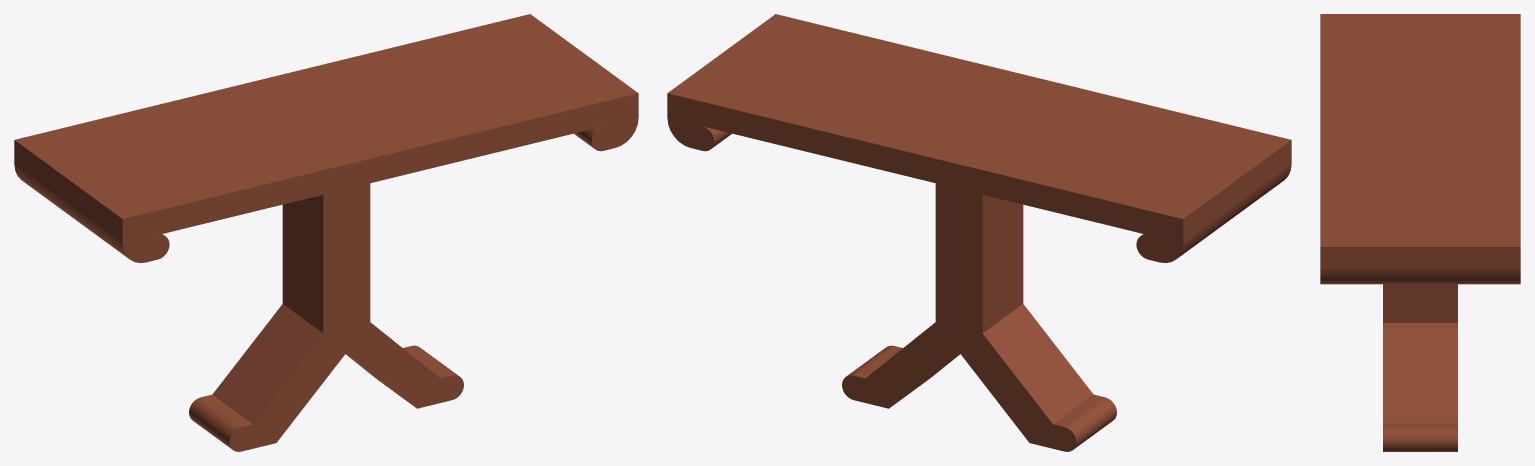
Rendered from table.glb.
The picture shows the model from 3 angles, left to right: view 1: azimuth 30°, elevation 25°; view 2: azimuth 150°, elevation 25°; view 3: azimuth 270°, elevation 25°; orthographic projection. The views are drawn at different scales.
Visible parts, largest first — view 1: generated(Clone); view 2: generated(Clone); view 3: generated(Clone).
Part boxes in pixels (x1=…): generated(Clone): x1=14, y1=14, x2=638, y2=451; generated(Clone): x1=667, y1=14, x2=1291, y2=451; generated(Clone): x1=1320, y1=14, x2=1520, y2=451.
Size of the model in its own units: 22 by 12 by 8.
